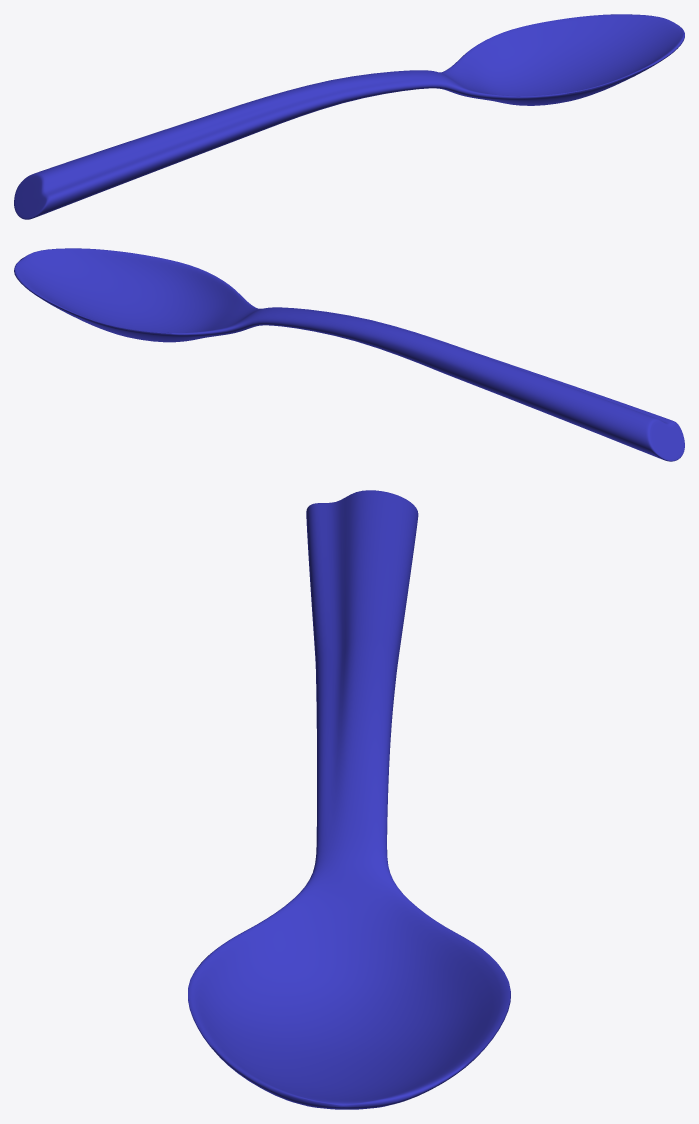
File: spoon_blue_plastic.dae
The picture shows the model from 3 angles, top to bottom: view 1: azimuth 30°, elevation 25°; view 2: azimuth 150°, elevation 25°; view 3: azimuth 270°, elevation 25°; orthographic projection. The views are drawn at different scales.
Visible parts, largest first — view 1: group_0; view 2: group_0; view 3: group_0.
Part boxes in pixels (left/top/right/bottom): group_0: left=14, top=14, right=684, bottom=219; group_0: left=14, top=248, right=684, bottom=461; group_0: left=188, top=490, right=510, bottom=1109.
Bounding box in the file's own units: 0.2167 × 0.0463 × 0.0189.
